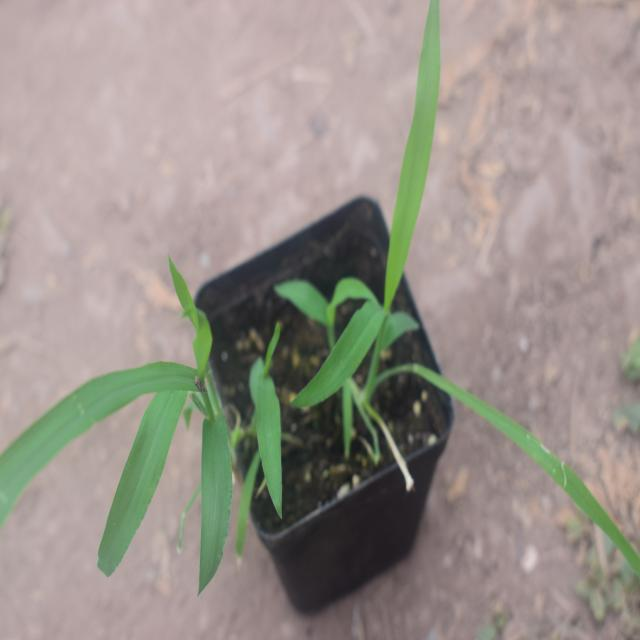crabgrass: (0, 271, 282, 566), (292, 12, 453, 398)
